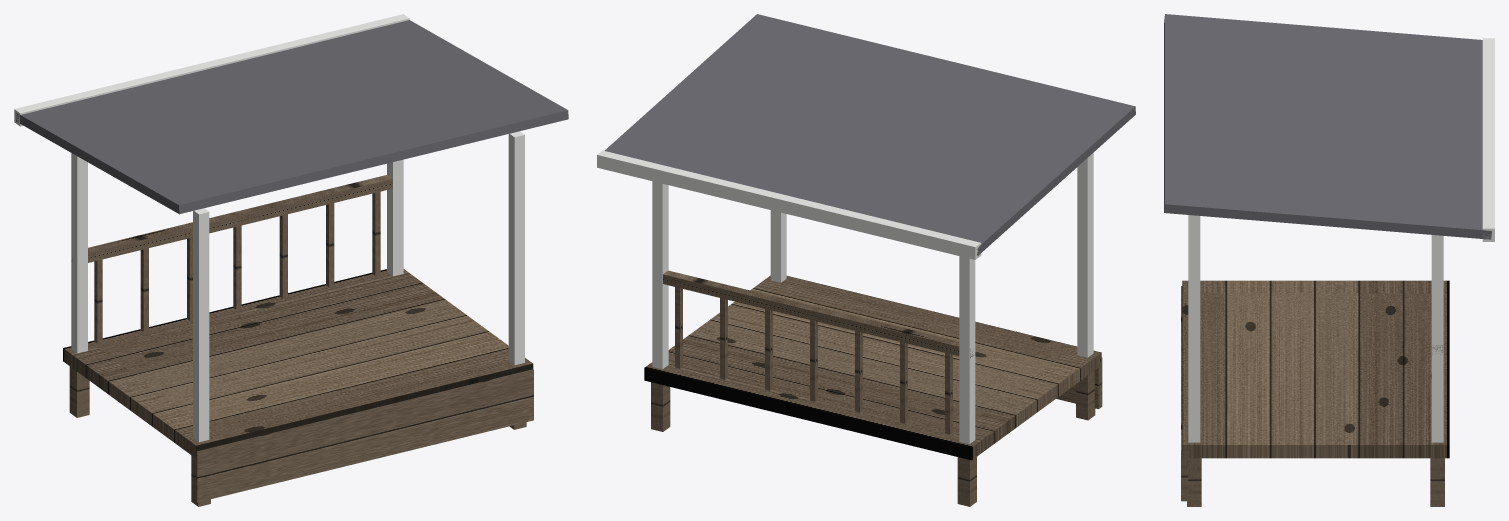
Rendered from WK_ARCH_Porch.glb.
3 views of the same model, side by side, from view 1: azimuth 30°, elevation 25°; view 2: azimuth 150°, elevation 25°; view 3: azimuth 270°, elevation 25° (orthographic). The views are drawn at different scales.
Visible parts, largest first — view 1: WK_ARCH_Porch_P10, WK_ARCH_Porch_P01, WK_ARCH_Porch_P22, WK_ARCH_Porch_P14, WK_ARCH_Porch_P08, WK_ARCH_Porch_P06, WK_ARCH_Porch_P07, WK_ARCH_Porch_P11, WK_ARCH_Porch_P09, WK_ARCH_Porch_P03, WK_ARCH_Porch_P20, WK_ARCH_Porch_P15 (+4 smaller); view 2: WK_ARCH_Porch_P10, WK_ARCH_Porch_P01, WK_ARCH_Porch_P11, WK_ARCH_Porch_P14, WK_ARCH_Porch_P06, WK_ARCH_Porch_P07, WK_ARCH_Porch_P09, WK_ARCH_Porch_P08, WK_ARCH_Porch_P03, WK_ARCH_Porch_P05, WK_ARCH_Porch_P02, WK_ARCH_Porch_P15 (+7 smaller); view 3: WK_ARCH_Porch_P10, WK_ARCH_Porch_P01, WK_ARCH_Porch_P08, WK_ARCH_Porch_P09, WK_ARCH_Porch_P11, WK_ARCH_Porch_P05, WK_ARCH_Porch_P22, WK_ARCH_Porch_P04.
Part boxes in pixels (bbox=[...]): WK_ARCH_Porch_P10: bbox=[16, 20, 568, 214]; WK_ARCH_Porch_P01: bbox=[63, 269, 533, 458]; WK_ARCH_Porch_P22: bbox=[193, 369, 533, 502]; WK_ARCH_Porch_P14: bbox=[71, 175, 392, 262]; WK_ARCH_Porch_P08: bbox=[508, 131, 524, 365]; WK_ARCH_Porch_P06: bbox=[193, 208, 209, 442]; WK_ARCH_Porch_P07: bbox=[71, 153, 87, 353]; WK_ARCH_Porch_P11: bbox=[14, 14, 409, 126]; WK_ARCH_Porch_P09: bbox=[387, 159, 403, 276]; WK_ARCH_Porch_P03: bbox=[69, 366, 89, 417]; WK_ARCH_Porch_P20: bbox=[326, 203, 334, 287]; WK_ARCH_Porch_P15: bbox=[94, 259, 102, 343]; WK_ARCH_Porch_P10: bbox=[604, 14, 1135, 256]; WK_ARCH_Porch_P01: bbox=[644, 275, 1101, 460]; WK_ARCH_Porch_P11: bbox=[597, 150, 981, 259]; WK_ARCH_Porch_P14: bbox=[663, 270, 973, 358]; WK_ARCH_Porch_P06: bbox=[1077, 153, 1093, 357]; WK_ARCH_Porch_P07: bbox=[959, 256, 975, 443]; WK_ARCH_Porch_P09: bbox=[652, 181, 668, 369]; WK_ARCH_Porch_P08: bbox=[770, 210, 786, 282]; WK_ARCH_Porch_P03: bbox=[957, 457, 976, 506]; WK_ARCH_Porch_P05: bbox=[651, 382, 670, 431]; WK_ARCH_Porch_P02: bbox=[1076, 371, 1095, 420]; WK_ARCH_Porch_P15: bbox=[945, 353, 952, 434]; WK_ARCH_Porch_P10: bbox=[1164, 14, 1491, 239]; WK_ARCH_Porch_P01: bbox=[1182, 280, 1449, 458]; WK_ARCH_Porch_P08: bbox=[1188, 215, 1200, 442]; WK_ARCH_Porch_P09: bbox=[1431, 235, 1443, 442]; WK_ARCH_Porch_P11: bbox=[1482, 38, 1494, 241]; WK_ARCH_Porch_P05: bbox=[1430, 458, 1444, 506]; WK_ARCH_Porch_P22: bbox=[1181, 286, 1188, 501]; WK_ARCH_Porch_P04: bbox=[1187, 458, 1201, 506].
Size of the model in its own units: 3.7 by 2.88 by 2.72.
Materials: 3 (1 with a texture image).
